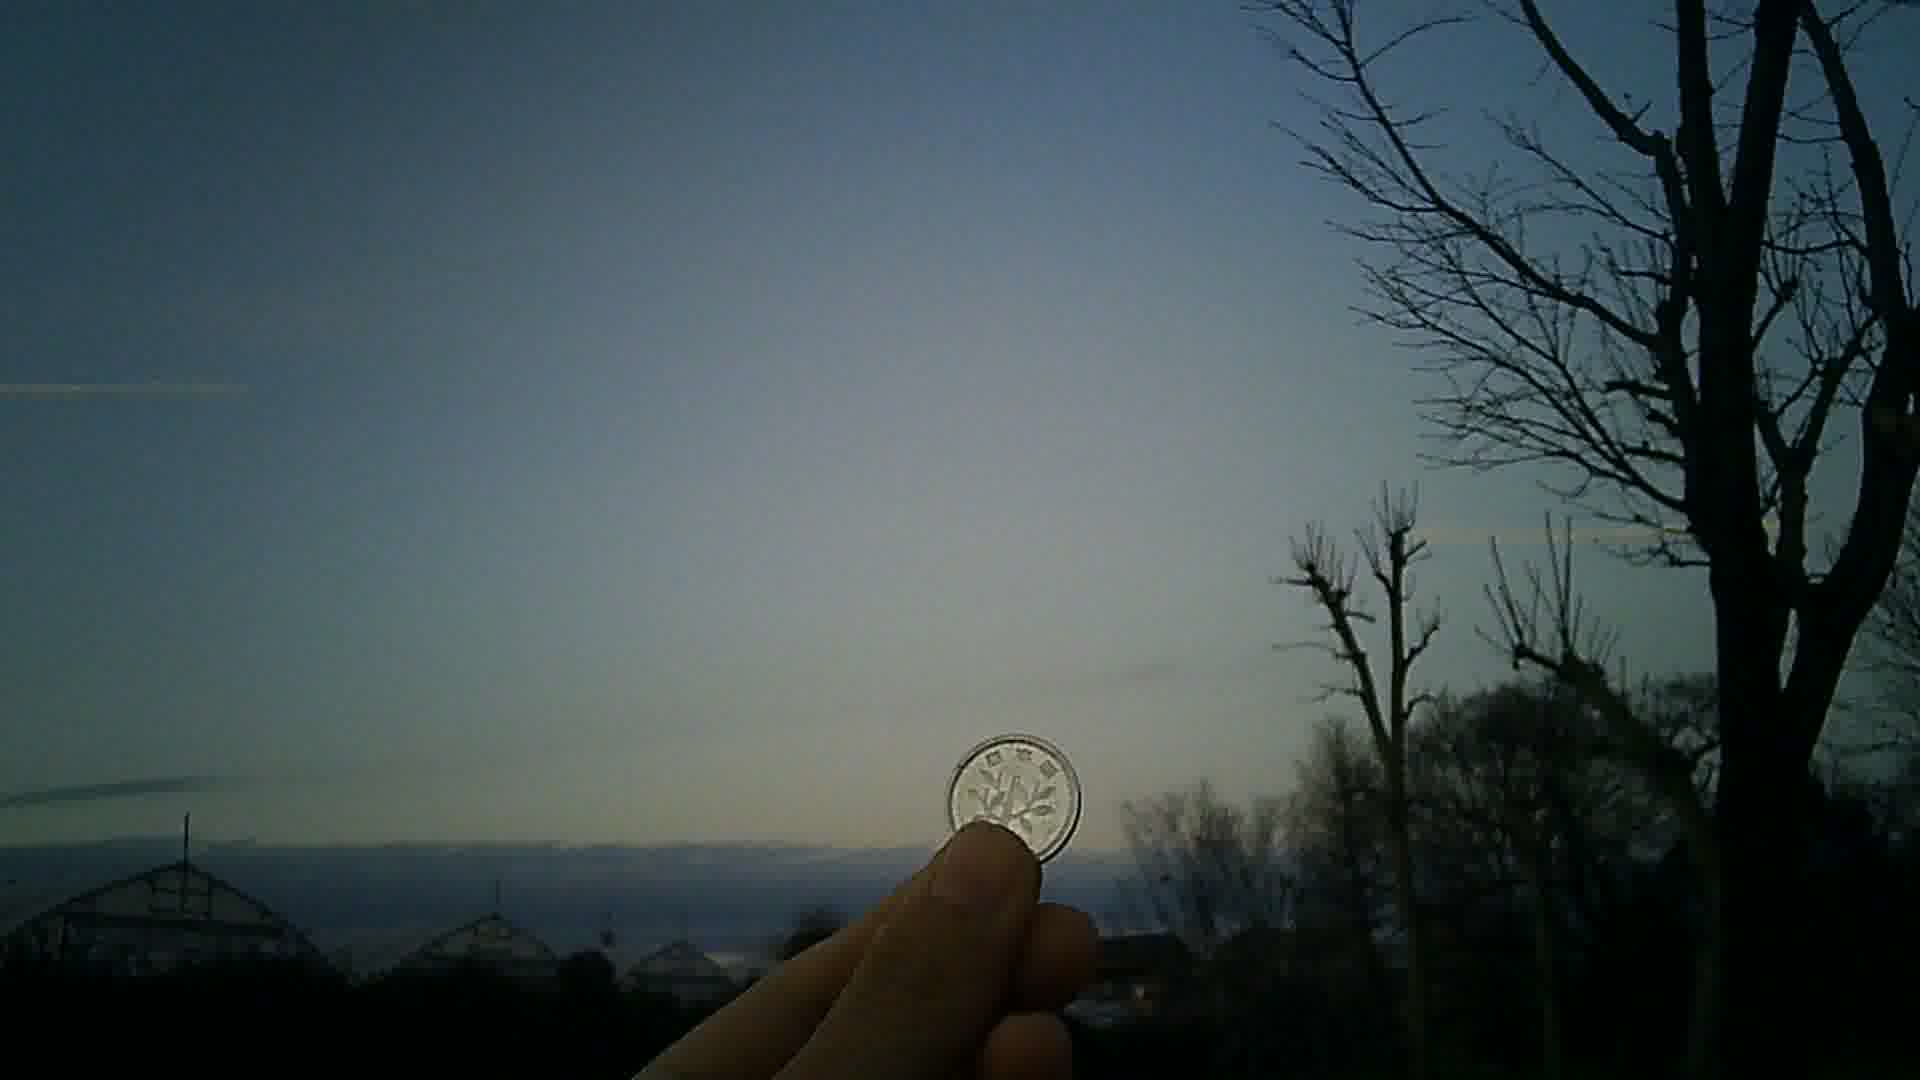1 Yen: (938, 727, 1093, 868)
